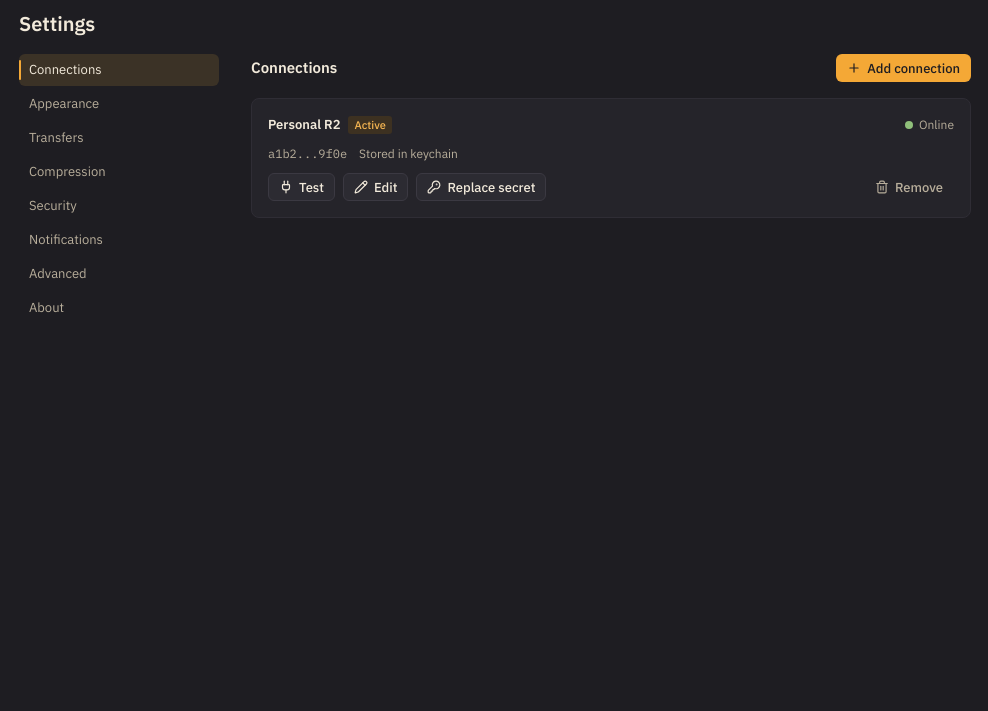
Activity log settings › shows the activity log folder and keeps names off by default
This screenshot has width=988, height=711.
Click the button "Advanced" at (119, 274), box [19,258,219,290]
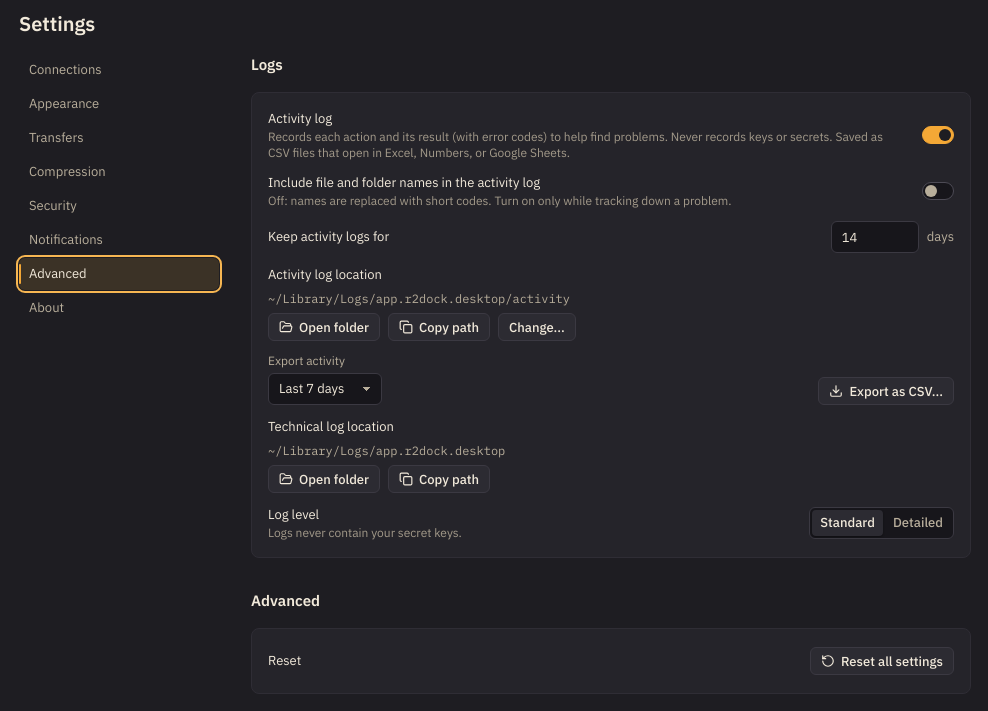
Now the text "~/Library/Logs/app.r2dock.desktop/activity" is shown, box [268,291,570,306]
